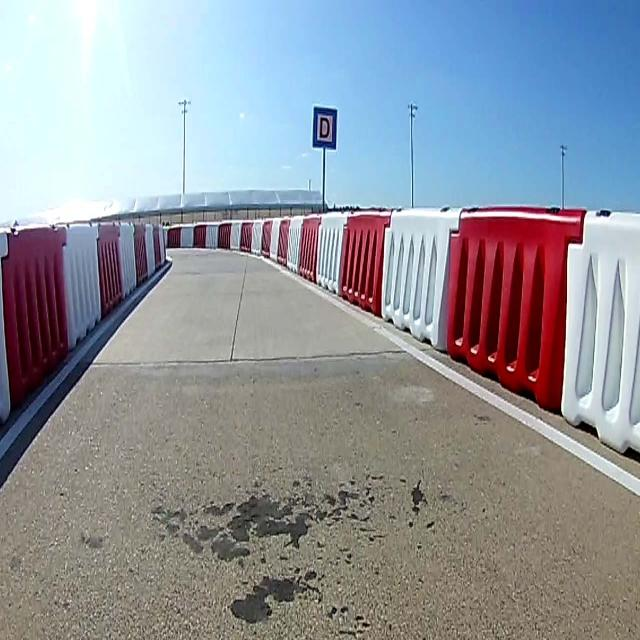durak: (313, 107, 337, 148)
